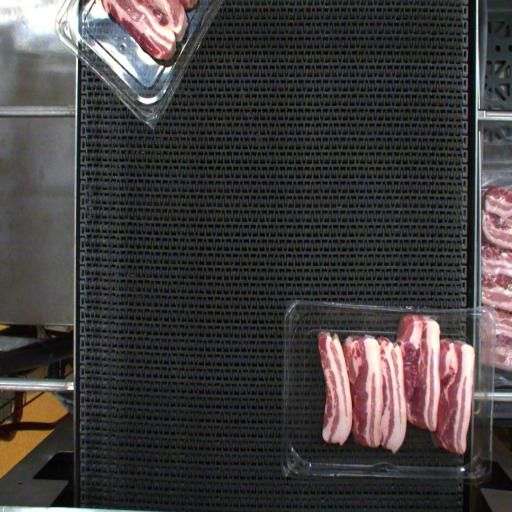packaging-error: (392, 298, 444, 324)
